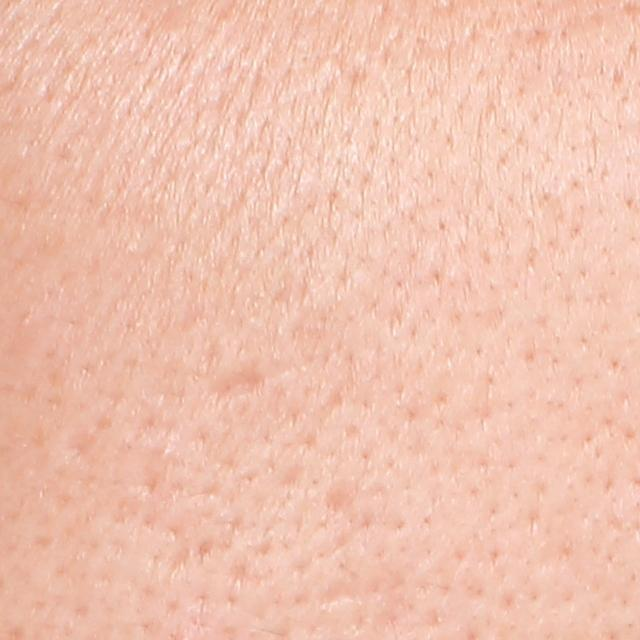atrophic_scar: (50, 406, 116, 467), (201, 367, 268, 405)
